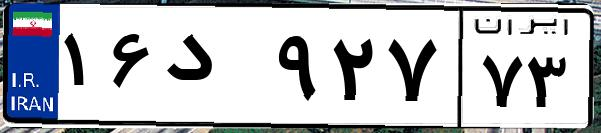1: (57, 26, 110, 100)
2: (330, 28, 385, 110)
3: (525, 38, 570, 115)
6: (110, 28, 158, 98)
7: (385, 28, 445, 110), (475, 38, 525, 113)
9: (270, 28, 330, 110)
د: (158, 20, 270, 120)
